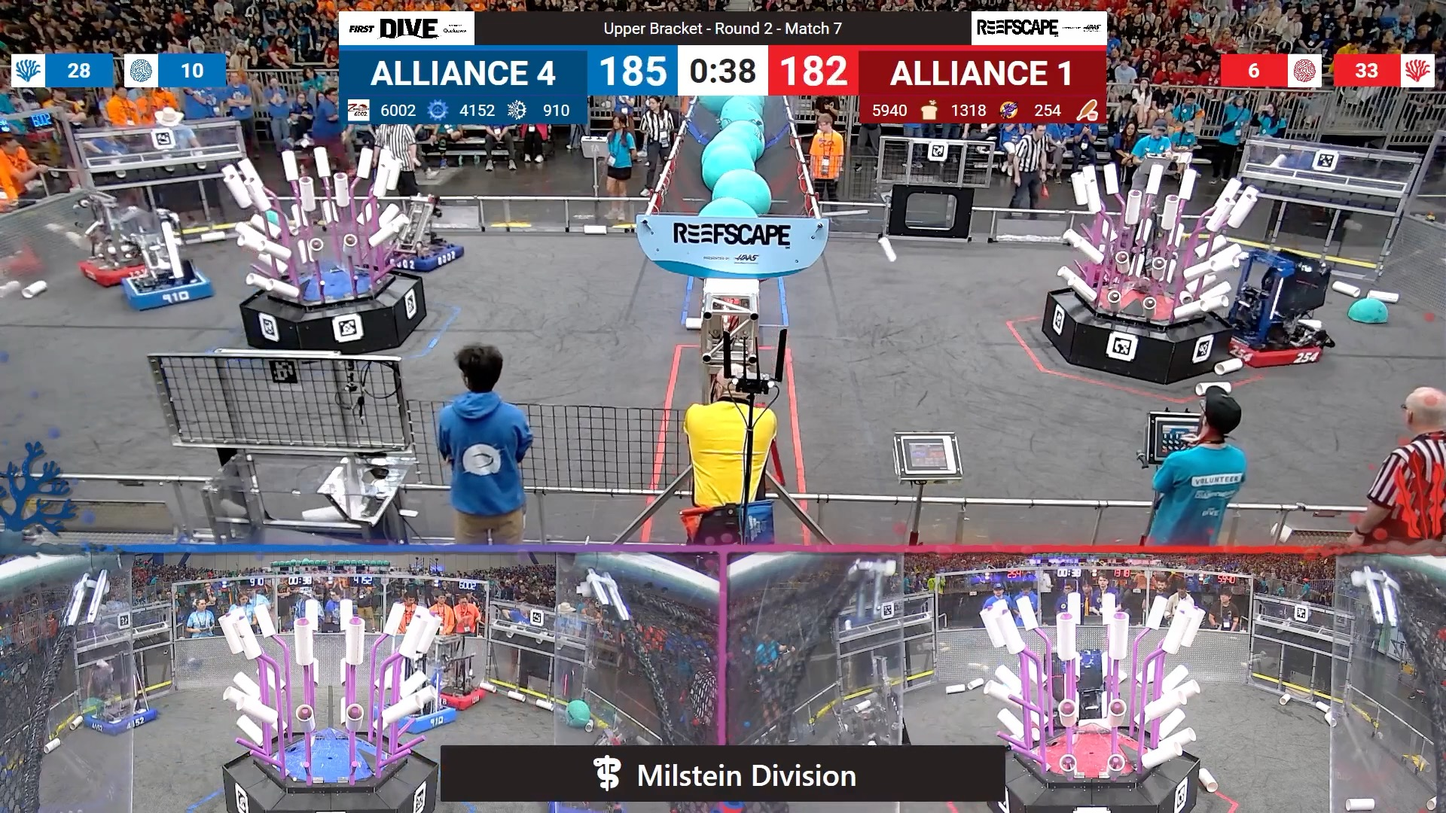bumpers: (1220, 322, 1334, 375), (113, 268, 219, 315), (373, 239, 468, 276), (72, 703, 163, 741), (72, 254, 159, 289), (387, 705, 463, 735), (431, 683, 493, 711)
